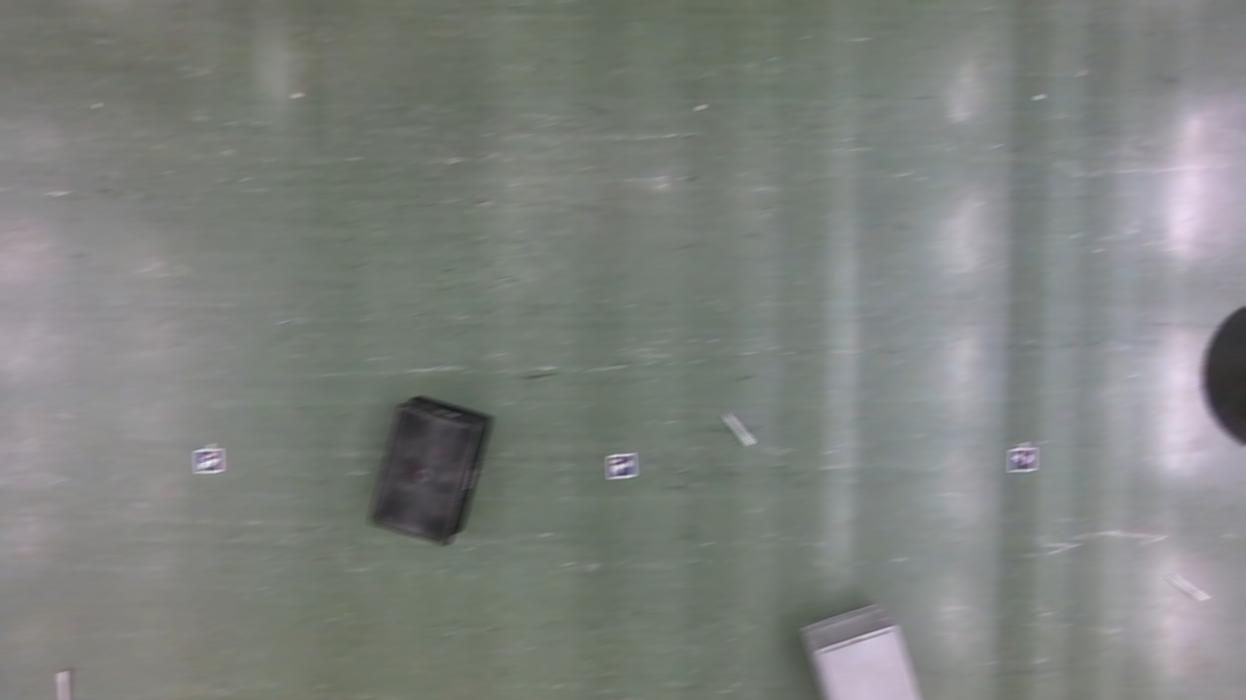probes: (1169, 572, 1207, 600), (726, 410, 751, 444), (58, 670, 68, 700)
rako: (368, 394, 493, 542), (798, 600, 923, 700)
